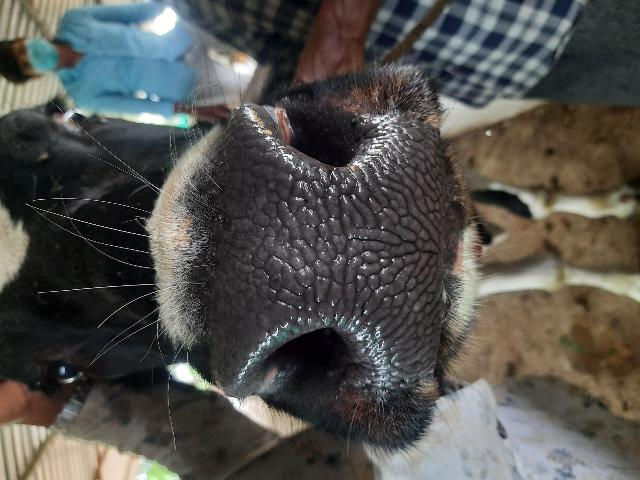Muzzle: (216, 152, 446, 340)
